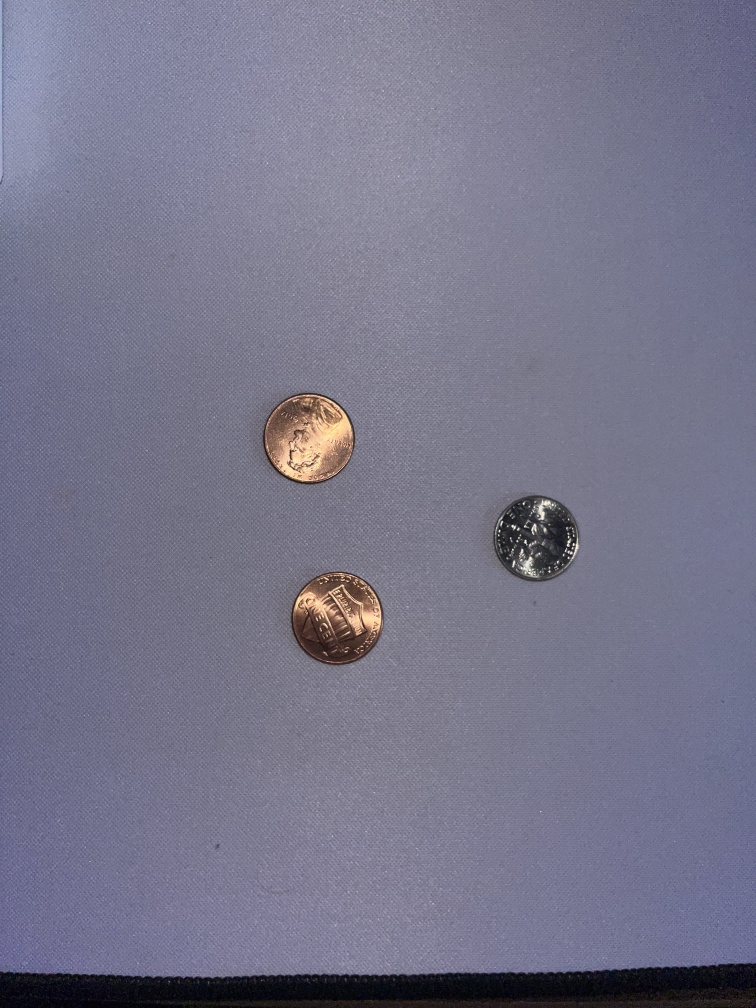dime: (486, 490, 583, 589)
penny: (290, 569, 384, 666), (262, 392, 357, 484)
